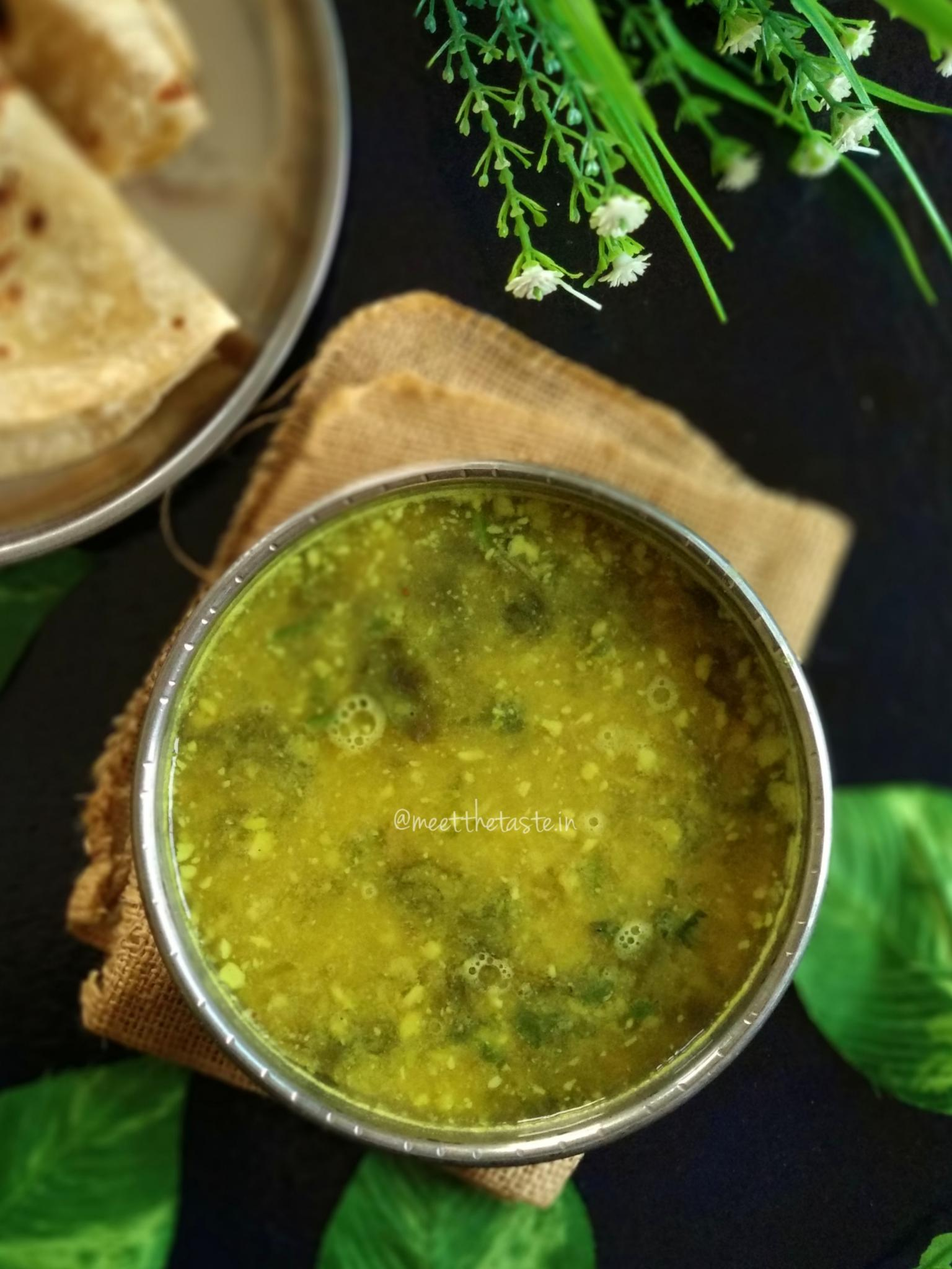varan: (251, 568, 786, 1030)
